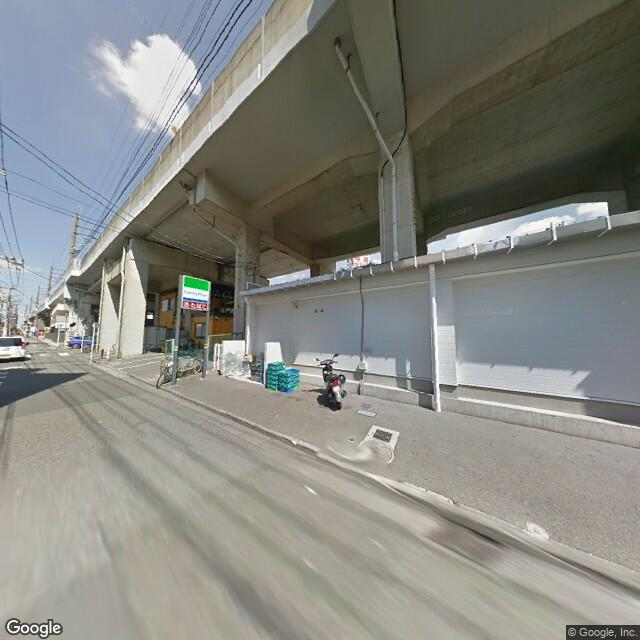family_mart: (180, 272, 213, 310)
